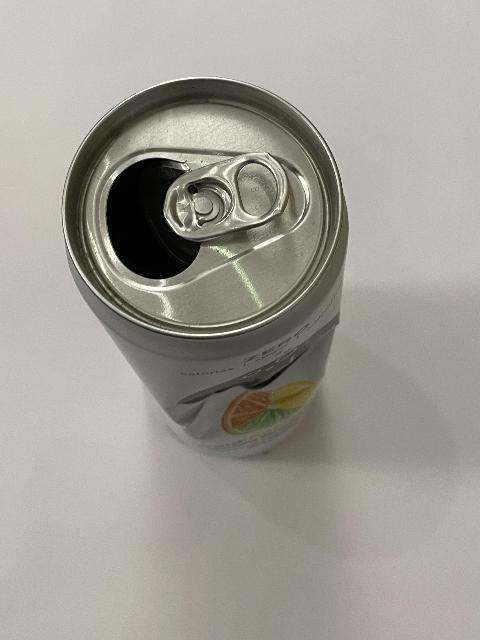drinkcan: (58, 73, 352, 461)
